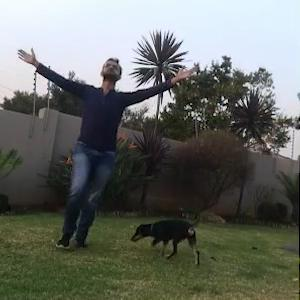takeoff: (19, 56, 181, 241)
